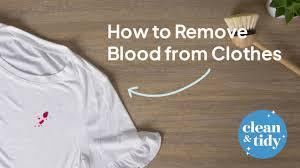blood: (31, 110, 49, 128)
